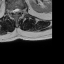CCS_normal: (14, 6, 17, 16)
LFS_normal: (20, 6, 22, 14)
LLS_normal: (17, 6, 20, 15)
RFS_normal: (10, 7, 12, 14)
RLS_normal: (12, 6, 14, 15)
